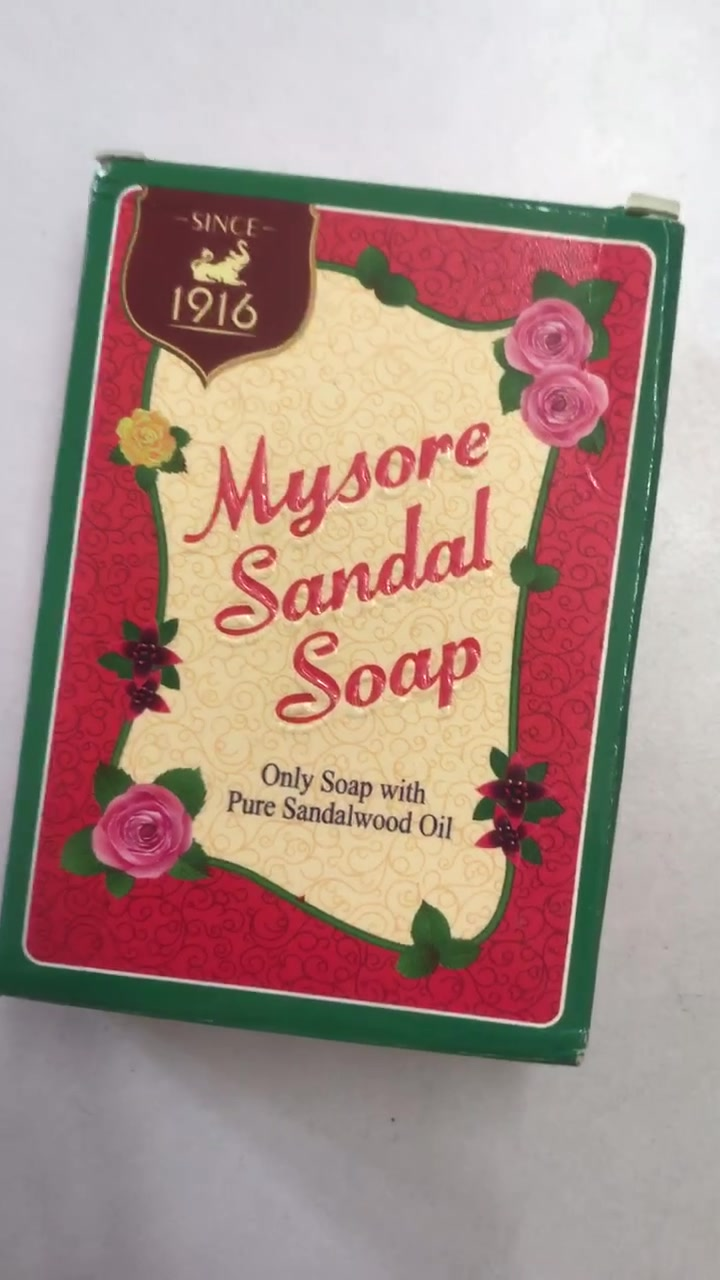mysore sandal soap: (9, 155, 685, 1063)
